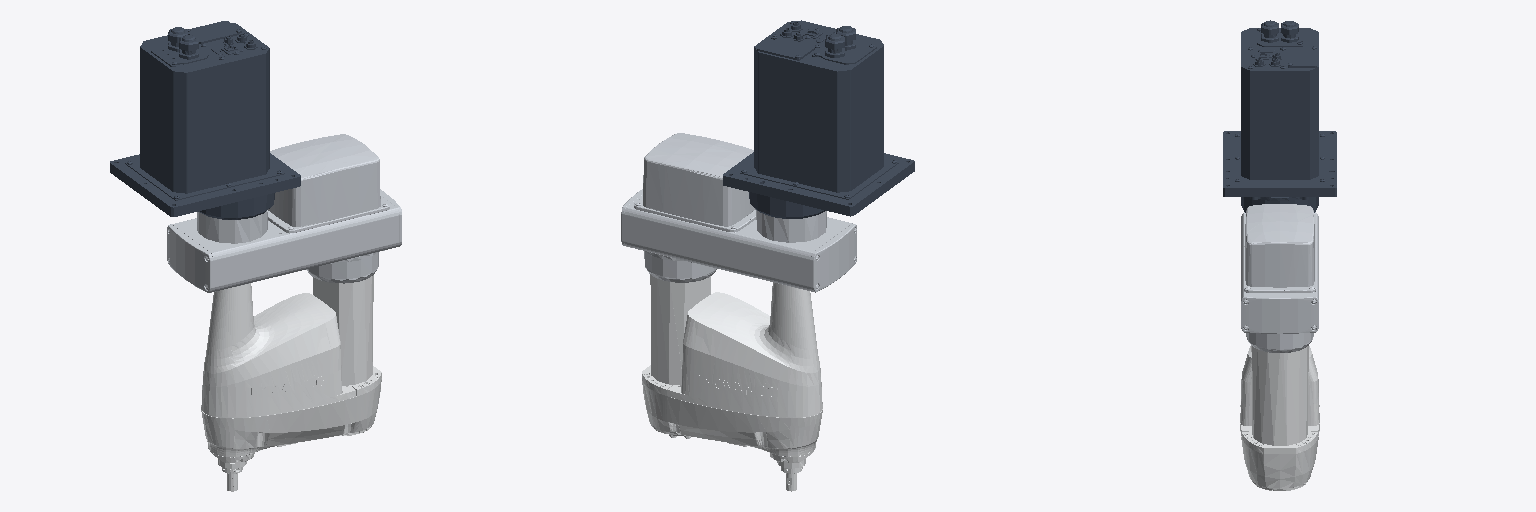
The robot description file, URDF, robot "IR-TS4-35Z15S3-C2LH-INT_01741011":
<?xml version="1.0"?>
<!-- Firmware source: params_package/Standard/Body/IR-TS4-35Z15S3-C2LH-INT_01741011/IR-TS4-35Z15S3-C2LH-INT_01741011.json; SHA256 8225ac7747389f9cc7103b42d88bedea8e6d5eeba8018caa3868e5cb5c916598. -->
<!-- Z-up; STL mm scaled to m. Effective firmware mass properties are SI and transformed into CAD link frames. -->
<!-- Revolute effort is nominal output torque; prismatic effort is ideal screw force. See physics-audit.json for approximations. -->
<robot name="IR-TS4-35Z15S3-C2LH-INT_01741011">
  <link name="base_link">

    <visual name="base">
      <origin xyz="0 0 0" rpy="0 0 0"/>
      <geometry>
        <mesh filename="../models/IR-TS4-35Z15/P0.stl" scale="0.001 0.001 0.001"/>
      </geometry>
      <material name="base_material">
        <color rgba="0.31 0.35 0.41 1"/>
      </material>
    </visual>
    <collision name="base_collision">
      <origin xyz="0 0 0" rpy="0 0 0"/>
      <geometry>
        <mesh filename="../models/IR-TS4-35Z15/P0.stl" scale="0.001 0.001 0.001"/>
      </geometry>
    </collision>
  </link>

  <link name="link_1">

    <!-- inertial source: bounding-box-fallback -->
    <!-- SCARA firmware contains planar inertia, not a full 3D tensor; uniform mesh-bounds approximation -->
    <inertial>
      <origin xyz="0.0835 0 0.387650009155" rpy="0 0 0"/>
      <mass value="4.6517586333"/>
      <inertia ixx="0.018777700293" ixy="0" ixz="0" iyy="0.05264289079" iyz="0" izz="0.045029411217"/>
    </inertial>

    <visual name="link_1">
      <origin xyz="0 0 0" rpy="0 0 0"/>
      <geometry>
        <mesh filename="../models/IR-TS4-35Z15/P1.stl" scale="0.001 0.001 0.001"/>
      </geometry>
      <material name="link_1_material">
        <color rgba="0.84 0.86 0.89 1"/>
      </material>
    </visual>
    <collision name="link_1_collision">
      <origin xyz="0 0 0" rpy="0 0 0"/>
      <geometry>
        <mesh filename="../models/IR-TS4-35Z15/P1.stl" scale="0.001 0.001 0.001"/>
      </geometry>
    </collision>
  </link>

  <link name="link_2">

    <!-- inertial source: bounding-box-fallback -->
    <!-- SCARA firmware contains planar inertia, not a full 3D tensor; uniform mesh-bounds approximation -->
    <inertial>
      <origin xyz="-0.085499973297 -0.00001386261 0.185579879761" rpy="0 0 0"/>
      <mass value="4.2925362713"/>
      <inertia ixx="0.035653444006" ixy="0" ixz="0" iyy="0.056401772011" iyz="0" izz="0.031405967059"/>
    </inertial>

    <visual name="link_2">
      <origin xyz="-0.175 0 0" rpy="0 0 0"/>
      <geometry>
        <mesh filename="../models/IR-TS4-35Z15/P2.stl" scale="0.001 0.001 0.001"/>
      </geometry>
      <material name="link_2_material">
        <color rgba="0.94 0.95 0.96 1"/>
      </material>
    </visual>
    <collision name="link_2_collision">
      <origin xyz="-0.175 0 0" rpy="0 0 0"/>
      <geometry>
        <mesh filename="../models/IR-TS4-35Z15/P2.stl" scale="0.001 0.001 0.001"/>
      </geometry>
    </collision>
  </link>

  <link name="link_3">

    <!-- inertial source: bounding-box-fallback -->
    <!-- SCARA firmware contains planar inertia, not a full 3D tensor; uniform mesh-bounds approximation -->
    <inertial>
      <origin xyz="-0.000011926174 -0.000122423649 0.16" rpy="0 0 0"/>
      <mass value="0.3601370679"/>
      <inertia ixx="0.003100616808" ixy="0" ixz="0" iyy="0.003100110139" iyz="0" izz="0.000054387655"/>
    </inertial>
  </link>

  <link name="link_4">

    <!-- inertial source: bounding-box-fallback -->
    <!-- SCARA firmware contains planar inertia, not a full 3D tensor; uniform mesh-bounds approximation -->
    <inertial>
      <origin xyz="-0.000011926174 -0.000122423649 0.16" rpy="0 0 0"/>
      <mass value="0.3601370679"/>
      <inertia ixx="0.003100616808" ixy="0" ixz="0" iyy="0.003100110139" iyz="0" izz="0.000054387655"/>
    </inertial>

    <visual name="link_4">
      <origin xyz="0 0 0" rpy="0 0 0"/>
      <geometry>
        <mesh filename="../models/IR-TS4-35Z15/P4.stl" scale="0.001 0.001 0.001"/>
      </geometry>
      <material name="link_4_material">
        <color rgba="0.94 0.95 0.96 1"/>
      </material>
    </visual>
    <collision name="link_4_collision">
      <origin xyz="0 0 0" rpy="0 0 0"/>
      <geometry>
        <mesh filename="../models/IR-TS4-35Z15/P4.stl" scale="0.001 0.001 0.001"/>
      </geometry>
    </collision>
  </link>

  <joint name="J1" type="revolute">
    <parent link="base_link"/>
    <child link="link_1"/>
    <origin xyz="0 0 0" rpy="0 0 0"/>
    <axis xyz="0 0 1"/>
    <limit lower="-3.926990816987" upper="3.926990816987" effort="87.5" velocity="11.498229112139"/>
  </joint>

  <joint name="J2" type="revolute">
    <parent link="link_1"/>
    <child link="link_2"/>
    <origin xyz="0.175 0 0" rpy="0 0 0"/>
    <axis xyz="0 0 1"/>
    <limit lower="-3.926990816987" upper="3.926990816987" effort="63.5" velocity="12.320279189828"/>
  </joint>

  <joint name="J3" type="prismatic">
    <parent link="link_2"/>
    <child link="link_3"/>
    <origin xyz="-0.175 0 0" rpy="0 0 0"/>
    <axis xyz="0 0 1"/>
    <limit lower="-0.15" upper="0.001" effort="144.053516796913" velocity="1.325955555556"/> <!-- ideal screw force: 2*pi*ratedTrq*abs(ratio)/lead_m; efficiency=1 -->
  </joint>

  <joint name="J4" type="revolute">
    <parent link="link_3"/>
    <child link="link_4"/>
    <origin xyz="0 0 0" rpy="0 0 0"/>
    <axis xyz="0 0 1"/>
    <limit lower="-12.566370614359" upper="12.566370614359" effort="3.84" velocity="45.378560551853"/>
  </joint>

  <link name="tool0"/>
  <joint name="tool0_fixed" type="fixed">
    <parent link="link_4"/>
    <child link="tool0"/>
    <origin xyz="0 0 0" rpy="0 0 3.14159265359"/>
  </joint>
</robot>

--- Render facts (derived) ---
The picture shows the robot from 3 angles, left to right: view 1: azimuth 30°, elevation 25°; view 2: azimuth 150°, elevation 25°; view 3: azimuth 270°, elevation 25°; orthographic projection.
Model IR-TS4-35Z15S3-C2LH-INT_01741011 with 6 links and 5 joints (3 revolute, 1 prismatic, 1 fixed), rooted at base_link, posed all joints at 0.
Visible links, largest first — view 1: link_2, base_link, link_1; view 2: link_2, base_link, link_1; view 3: base_link, link_1, link_2.
Link boxes in pixels (left/top/right/bottom): link_2: left=201, top=275, right=381, bottom=468; base_link: left=110, top=21, right=300, bottom=219; link_1: left=167, top=134, right=401, bottom=292; link_2: left=642, top=274, right=822, bottom=468; base_link: left=723, top=20, right=914, bottom=218; link_1: left=621, top=133, right=856, bottom=292; base_link: left=1223, top=20, right=1336, bottom=212; link_1: left=1241, top=204, right=1318, bottom=352; link_2: left=1240, top=346, right=1319, bottom=490.
Bounding box of the posed robot: 0.39 × 0.175 × 0.7146 m (x, y, z).
Meshes: 4 distinct files referenced, 4 mesh visuals loaded (4 binary STL).
